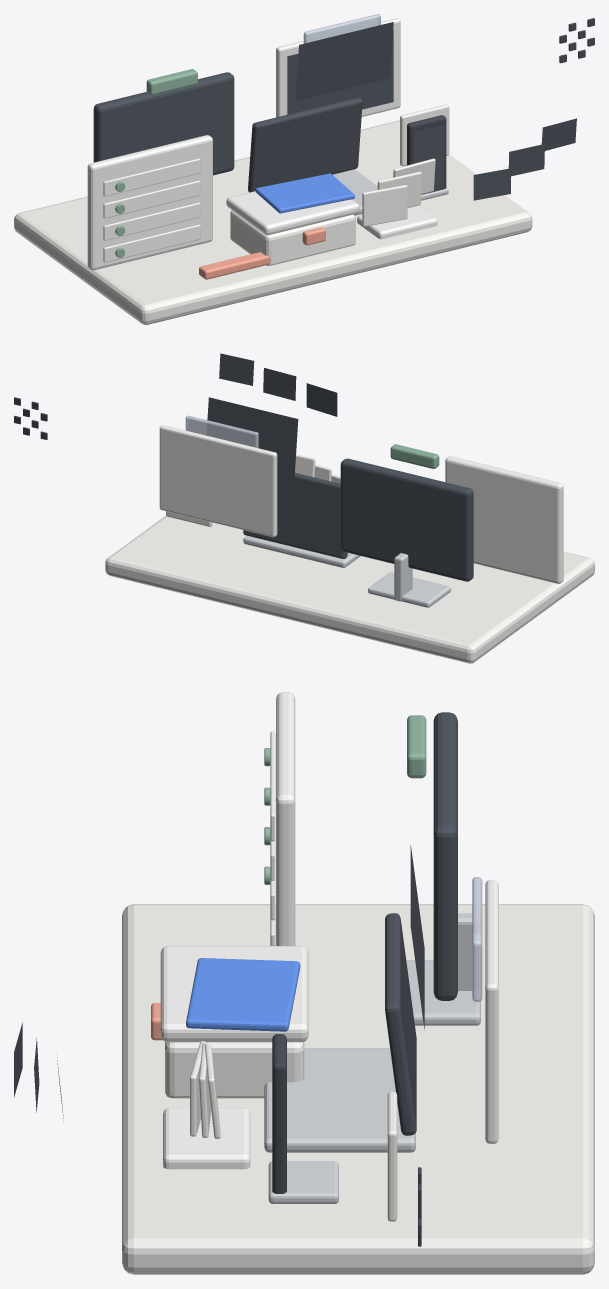
Rendered from release.glb.
3 renders of one model, top to bottom at view 1: azimuth 30°, elevation 25°; view 2: azimuth 150°, elevation 25°; view 3: azimuth 270°, elevation 25°, orthographic. The views are drawn at different scales.
Parts seen in each view (by area): view 1: REL_delivery_station, REL_qa_panel, REL_devices, SCREEN_release_monitor, SCREEN_release_laptop, REL_archive_box, REL_monitor_frame, REL_archive_lid, REL_release_folder, PRINT_release_device, REL_projection_frame, REL_project_card_0 (+17 smaller); view 2: REL_delivery_station, REL_monitor_frame, REL_projection_frame, REL_qa_panel, REL_devices, SCREEN_release_laptop, REL_monitor_foot, REL_final_panel, REL_laptop_base, REL_project_image_2, REL_project_image_1, REL_project_image_0 (+2 smaller); view 3: REL_delivery_station, REL_laptop_base, REL_release_folder, REL_monitor_frame, REL_archive_lid, REL_archive_box, REL_qa_panel, REL_devices, REL_project_rack, REL_projection_frame, REL_monitor_foot, REL_phone_stand (+8 smaller).
Part boxes in pixels (left/top/right/bottom): REL_delivery_station: left=14, top=120, right=532, bottom=324; REL_qa_panel: left=87, top=135, right=212, bottom=270; REL_devices: left=248, top=97, right=362, bottom=192; SCREEN_release_monitor: left=107, top=85, right=228, bottom=168; SCREEN_release_laptop: left=295, top=22, right=393, bottom=101; REL_archive_box: left=230, top=210, right=355, bottom=265; REL_monitor_frame: left=93, top=72, right=234, bottom=175; REL_archive_lid: left=226, top=191, right=359, bottom=234; REL_release_folder: left=255, top=173, right=354, bottom=213; PRINT_release_device: left=287, top=30, right=393, bottom=114; REL_projection_frame: left=276, top=18, right=400, bottom=117; REL_project_card_0: left=362, top=185, right=407, bottom=226; REL_delivery_station: left=105, top=515, right=594, bottom=663; REL_monitor_frame: left=340, top=458, right=473, bottom=581; REL_projection_frame: left=159, top=425, right=277, bottom=537; REL_qa_panel: left=445, top=456, right=563, bottom=583; REL_devices: left=243, top=473, right=347, bottom=558; SCREEN_release_laptop: left=207, top=397, right=298, bottom=477; REL_monitor_foot: left=368, top=572, right=450, bottom=607; REL_final_panel: left=185, top=415, right=258, bottom=448; REL_laptop_base: left=243, top=535, right=360, bottom=567; REL_project_image_2: left=219, top=353, right=254, bottom=385; REL_project_image_1: left=263, top=368, right=296, bottom=400; REL_project_image_0: left=306, top=383, right=337, bottom=416; REL_delivery_station: left=122, top=904, right=594, bottom=1274; REL_laptop_base: left=264, top=1048, right=415, bottom=1152; REL_release_folder: left=186, top=958, right=300, bottom=1031; REL_monitor_frame: left=433, top=712, right=457, bottom=1000; REL_archive_lid: left=160, top=946, right=308, bottom=1042; REL_archive_box: left=165, top=1041, right=304, bottom=1098; REL_qa_panel: left=276, top=692, right=295, bottom=945; REL_devices: left=385, top=913, right=416, bottom=1135; REL_project_rack: left=163, top=1108, right=250, bottom=1169; REL_projection_frame: left=485, top=880, right=498, bottom=1143; REL_monitor_foot: left=406, top=960, right=480, bottom=1025; REL_phone_stand: left=268, top=1161, right=338, bottom=1203.
Bounding box in the file's own units: 9.29 × 2.73 × 4.79.
